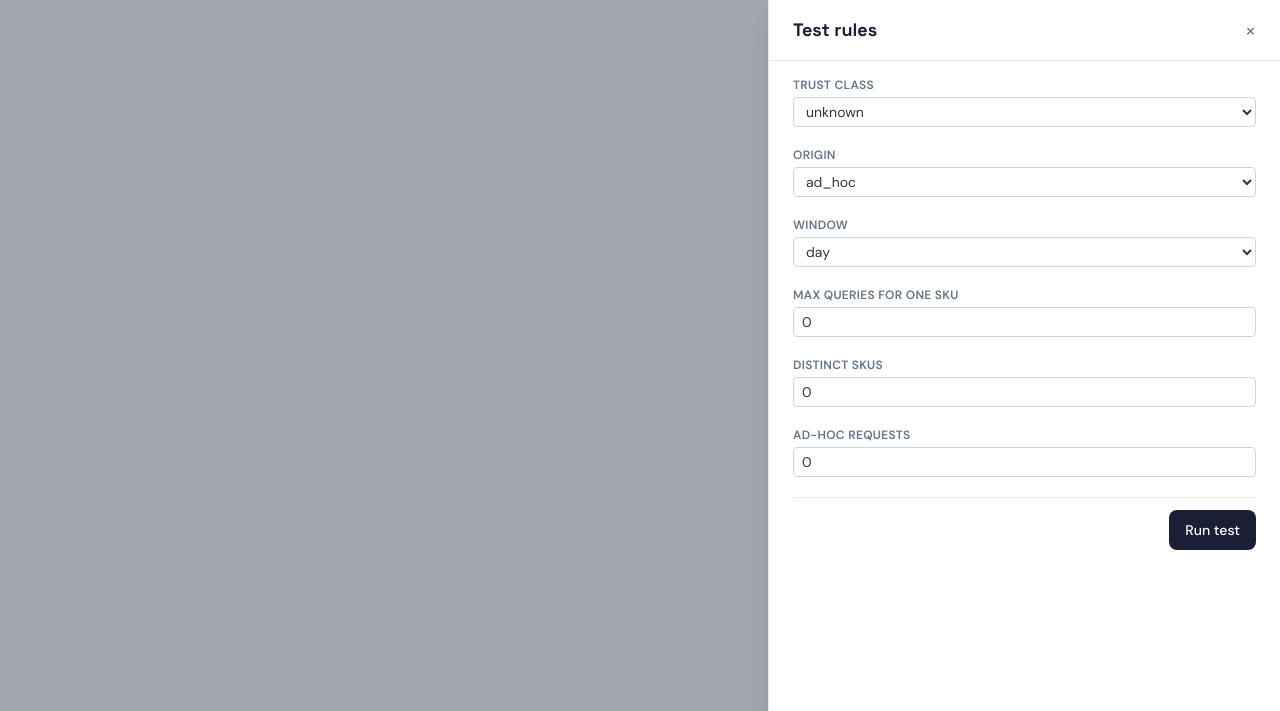
Test: TestDrawer › POSTs the hypothetical shape and renders would-trip results
The width and height of the screenshot is (1280, 711).
Select "unknown" in the dropdown labelled "Trust class" at (1024, 112), box [793,97,1256,127]
Replace the text in the number field labelled "Distinct SKUs" with "20" at (1024, 392), box [793,377,1256,407]
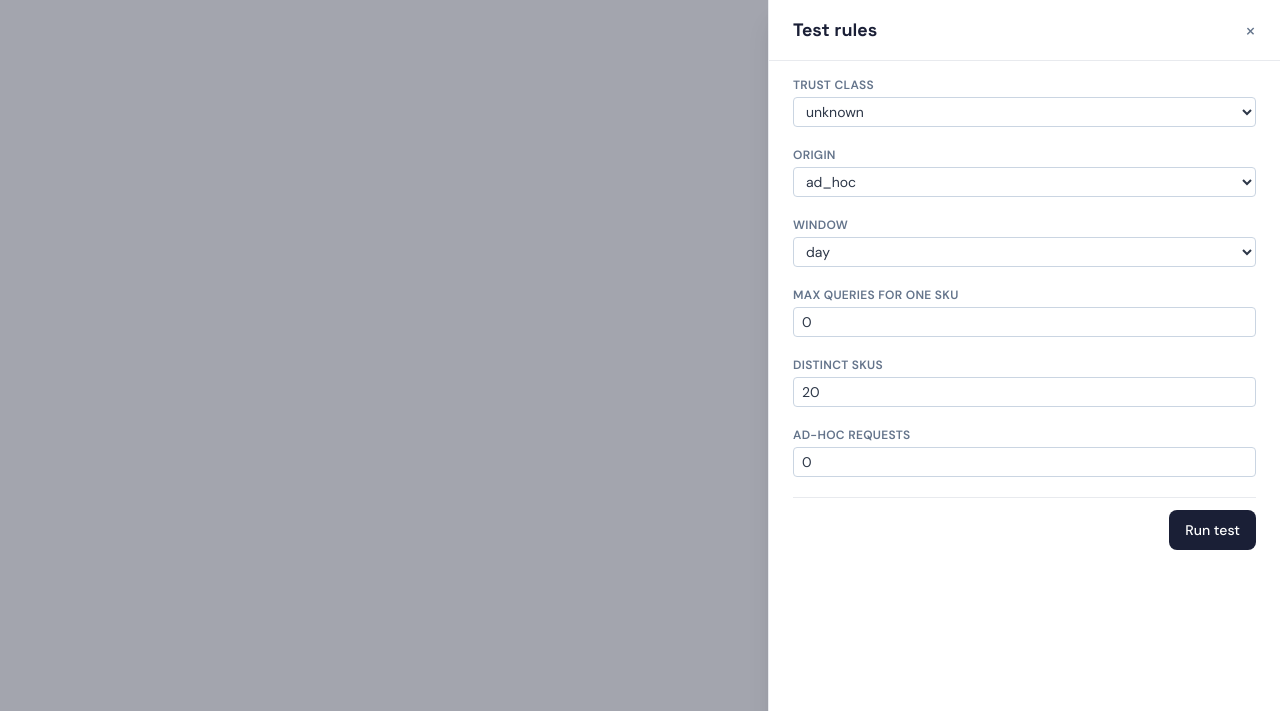
Click the button "Run test".
click(1213, 530)  # box [1169,510,1256,550]
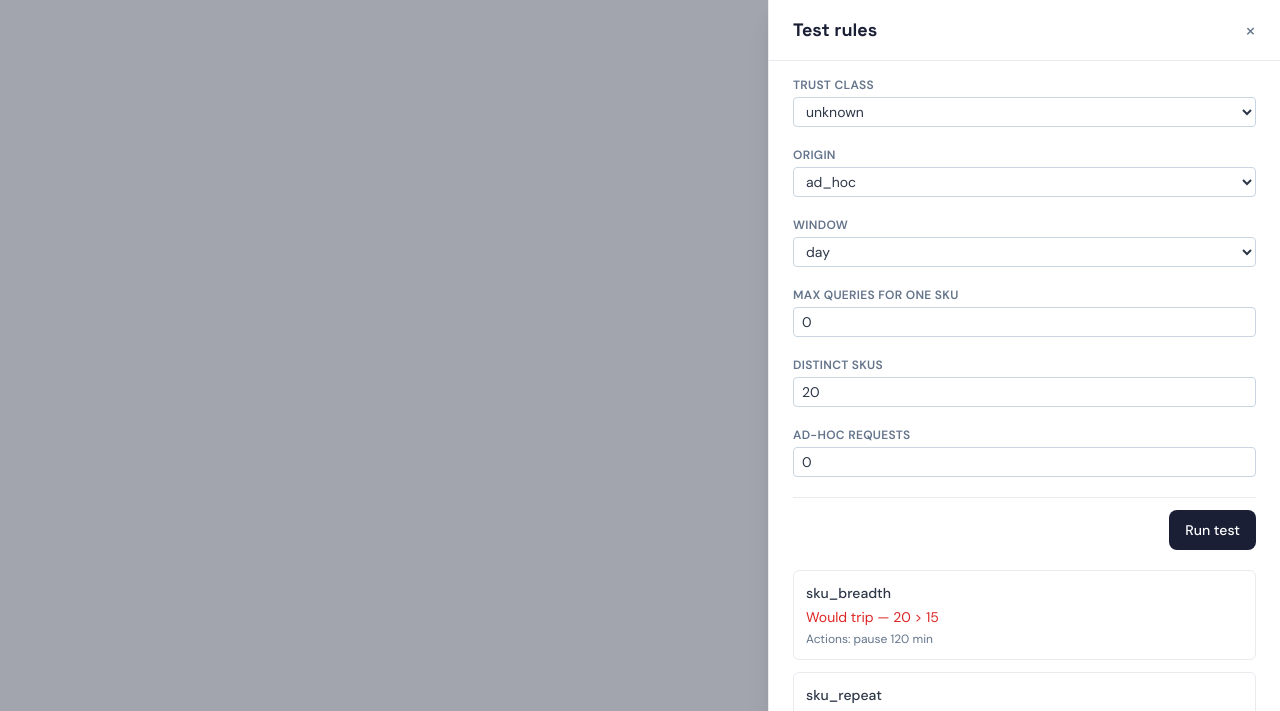
Expected: the text "Would trip — 20 > 15" is shown, [806,608,939,626]
